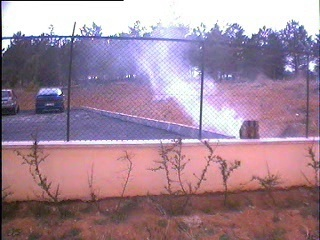smoke: (114, 29, 247, 138)
